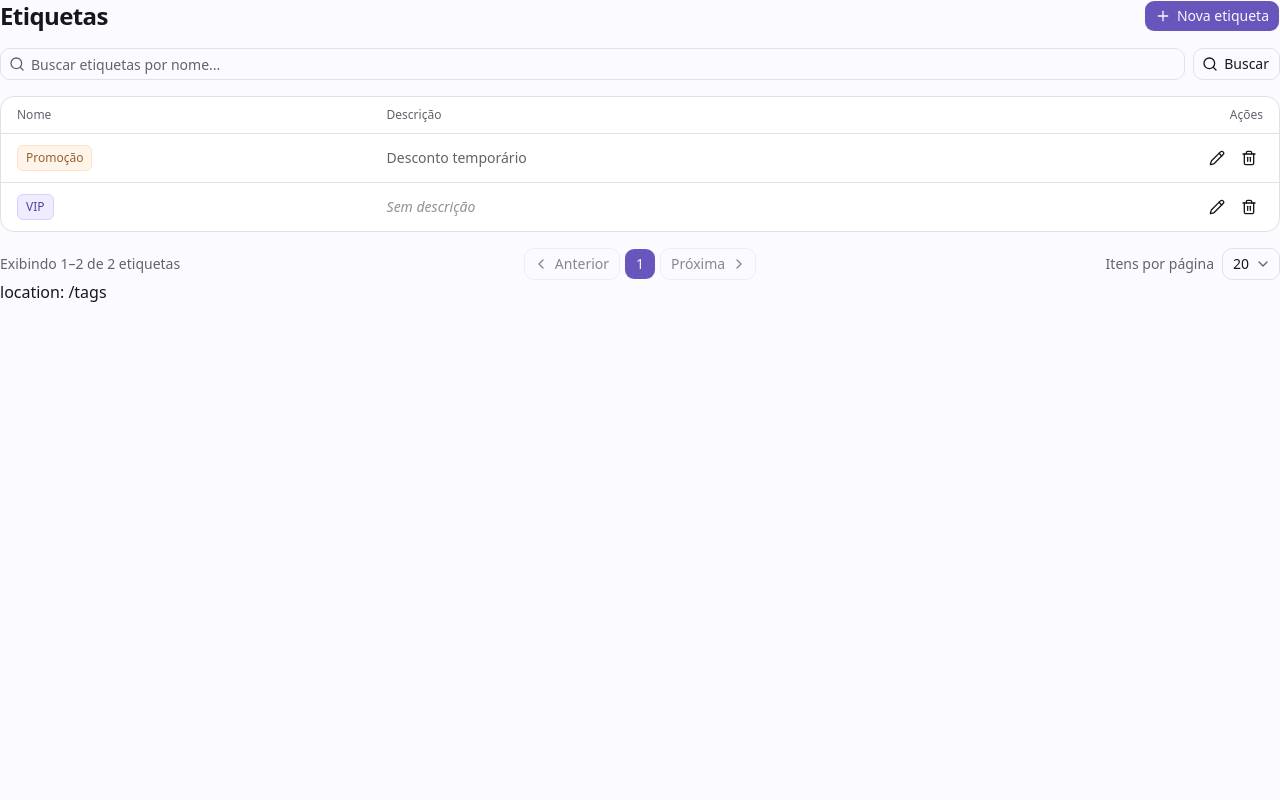
Test case: TagDeletePage › opens the confirmation dialog for the tag clicked in the list, naming it
Expected: the text "Promoção" is shown, [17,145,92,171]
Click the link named "Excluir Promoção" at (1249, 158), box [1241,150,1257,166]
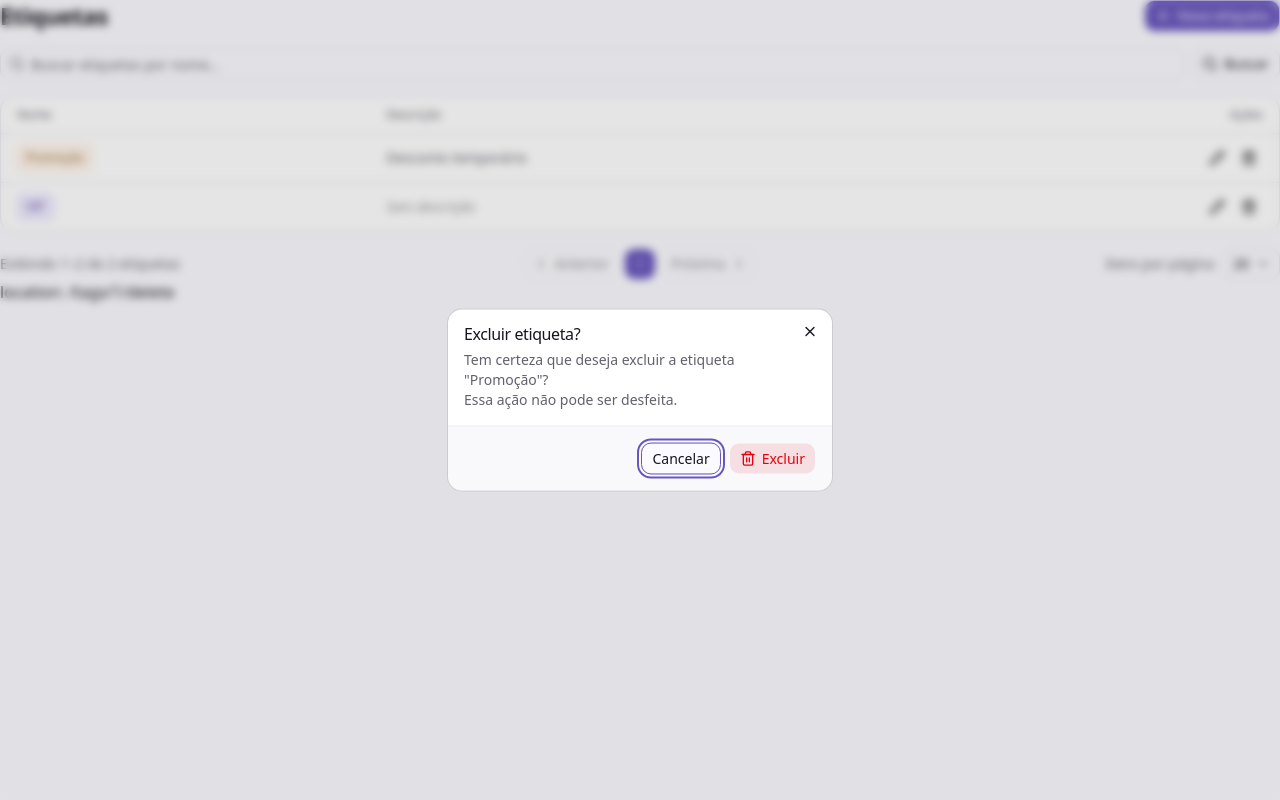
Expected: the heading "Excluir etiqueta?" is shown, [464,322,580,344]
Expected: the text "Tem certeza que deseja excluir a etiqueta \"Promoção\"?" is shown, [464,350,735,388]
